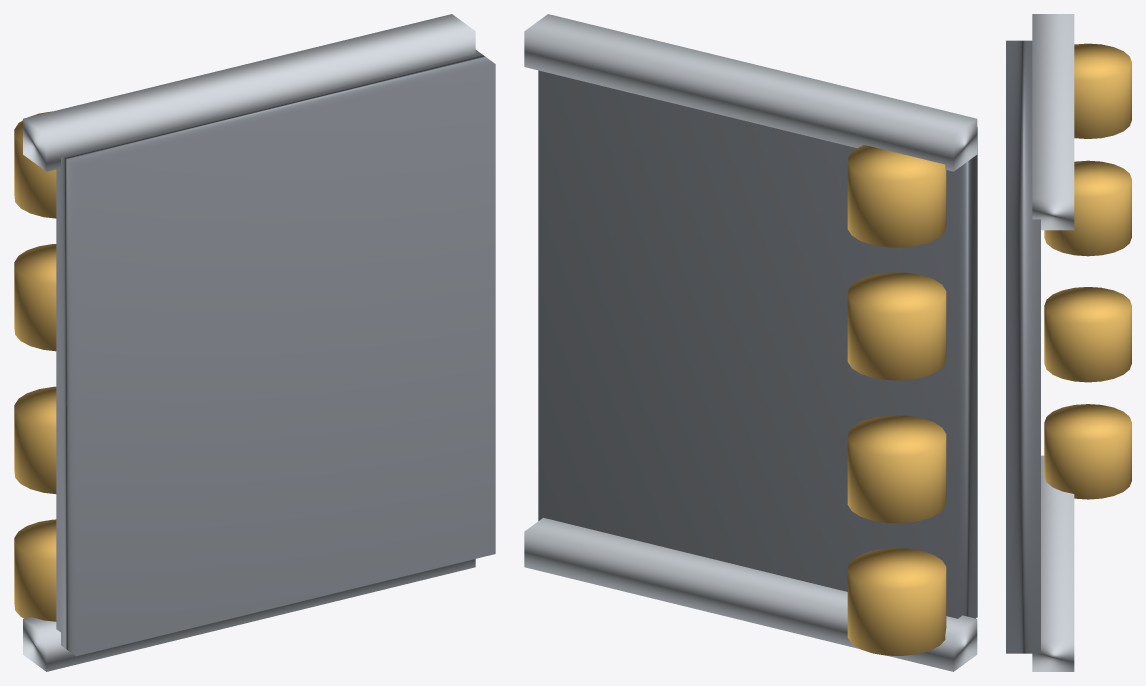
3 renders of one model, left to right at view 1: azimuth 30°, elevation 25°; view 2: azimuth 150°, elevation 25°; view 3: azimuth 270°, elevation 25°, orthographic. The views are drawn at different scales.
Parts seen in each view (by area): view 1: intake_crossbar, intake_side_arm_1, intake_side_arm, intake_roller_1, intake_roller_2, intake_roller, intake_roller_3; view 2: intake_crossbar, intake_side_arm_1, intake_side_arm, intake_roller_2, intake_roller_1, intake_roller, intake_roller_3; view 3: intake_crossbar, intake_side_arm_1, intake_roller_1, intake_roller, intake_side_arm, intake_roller_2, intake_roller_3.
Boxes of the visible parts, x1,y1,x2,y2 form: intake_crossbar: (56, 50, 495, 656); intake_side_arm_1: (23, 14, 475, 171); intake_side_arm: (23, 559, 475, 671); intake_roller_1: (14, 386, 56, 493); intake_roller_2: (14, 244, 56, 351); intake_roller: (14, 519, 56, 621); intake_roller_3: (14, 111, 56, 218); intake_crossbar: (538, 70, 977, 618); intake_side_arm_1: (524, 14, 977, 171); intake_side_arm: (524, 517, 977, 671); intake_roller_2: (847, 272, 946, 380); intake_roller_1: (847, 415, 946, 523); intake_roller: (847, 548, 946, 655); intake_roller_3: (847, 145, 946, 247); intake_crossbar: (1006, 40, 1040, 653); intake_side_arm_1: (1032, 14, 1074, 230); intake_roller_1: (1044, 287, 1131, 382); intake_roller: (1044, 404, 1131, 499); intake_side_arm: (1032, 455, 1074, 671); intake_roller_2: (1044, 160, 1131, 256); intake_roller_3: (1074, 43, 1131, 138).
Bounding box in the file's own units: 0.445 × 0.525 × 0.1265.
